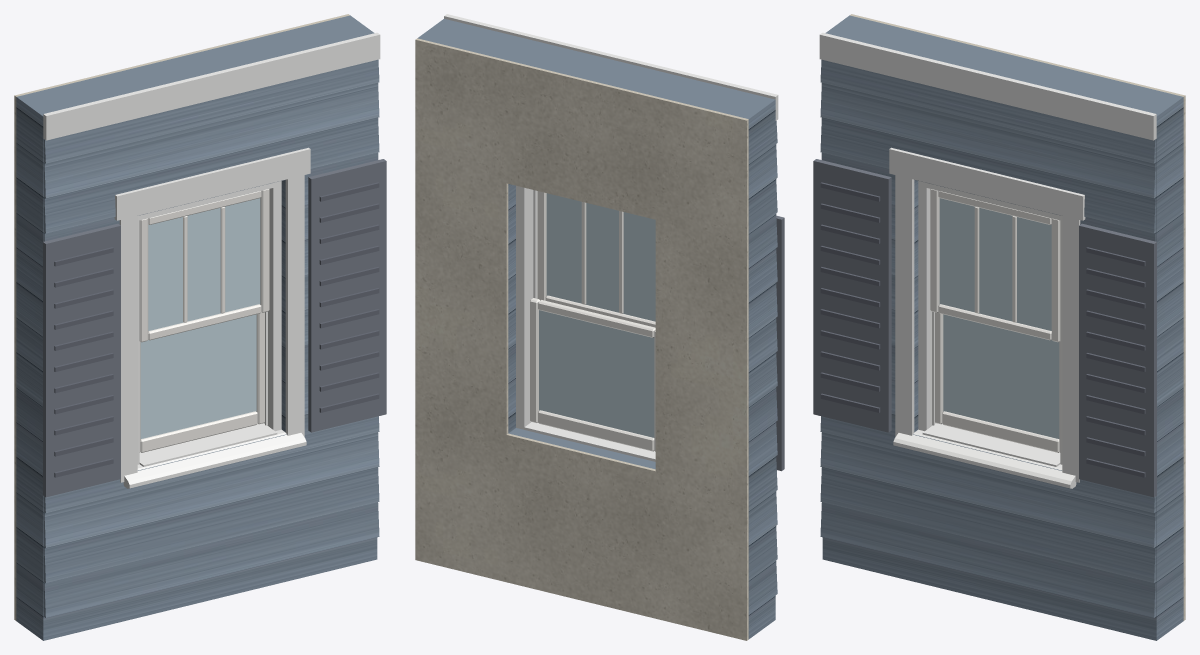
File: wall_siding_window.glb
The picture shows the model from 3 angles, left to right: view 1: azimuth 30°, elevation 25°; view 2: azimuth 150°, elevation 25°; view 3: azimuth 330°, elevation 25°; orthographic projection.
Parts seen in each view (by area): view 1: wall_siding_window_siding, wall_siding_window_shutter, wall_siding_window_trim, wall_siding_window_glass, wall_siding_window_sash, wall_siding_window_shutter_dark, wall_siding_window_frame, wall_siding_window_plaster; view 2: wall_siding_window_plaster, wall_siding_window_siding, wall_siding_window_glass, wall_siding_window_sash, wall_siding_window_frame, wall_siding_window_trim, wall_siding_window_shutter; view 3: wall_siding_window_siding, wall_siding_window_shutter, wall_siding_window_trim, wall_siding_window_glass, wall_siding_window_sash, wall_siding_window_shutter_dark, wall_siding_window_frame, wall_siding_window_plaster.
Boxes of the visible parts, <box> form: wall_siding_window_siding: <box>16,15,379,640</box>; wall_siding_window_shutter: <box>43,159,386,497</box>; wall_siding_window_trim: <box>43,32,380,488</box>; wall_siding_window_glass: <box>140,198,260,438</box>; wall_siding_window_sash: <box>139,189,269,452</box>; wall_siding_window_shutter_dark: <box>54,182,379,477</box>; wall_siding_window_frame: <box>137,181,281,464</box>; wall_siding_window_plaster: <box>14,14,349,620</box>; wall_siding_window_plaster: <box>415,38,748,640</box>; wall_siding_window_siding: <box>417,18,777,639</box>; wall_siding_window_glass: <box>539,193,655,437</box>; wall_siding_window_sash: <box>530,191,655,451</box>; wall_siding_window_frame: <box>516,185,537,429</box>; wall_siding_window_trim: <box>444,14,778,461</box>; wall_siding_window_shutter: <box>776,215,784,471</box>; wall_siding_window_siding: <box>820,15,1183,640</box>; wall_siding_window_shutter: <box>813,159,1156,497</box>; wall_siding_window_trim: <box>819,32,1156,488</box>; wall_siding_window_glass: <box>939,198,1059,438</box>; wall_siding_window_sash: <box>930,189,1060,452</box>; wall_siding_window_shutter_dark: <box>820,182,1145,477</box>; wall_siding_window_frame: <box>918,181,1062,464</box>; wall_siding_window_plaster: <box>850,14,1185,620</box>.
Size of the model in its own units: 2.04 by 3.02 by 0.38.
Materials: 8 (2 with a texture image).
